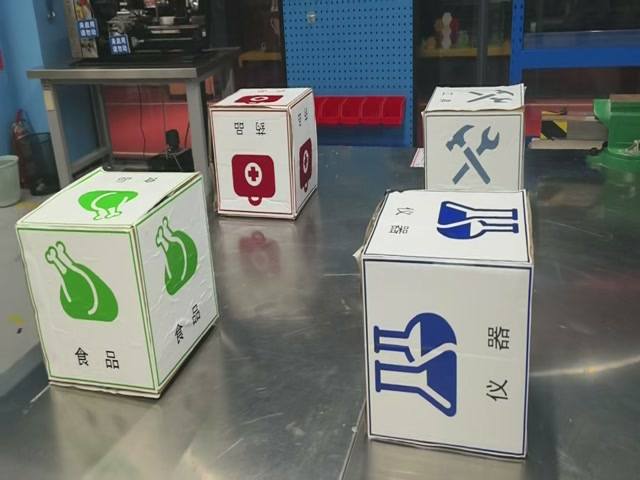Cube_food: (17, 169, 202, 237)
Cube_ins: (361, 191, 532, 271)
Cube_medicine: (210, 88, 312, 116)
Cube_tool: (423, 84, 523, 116)
